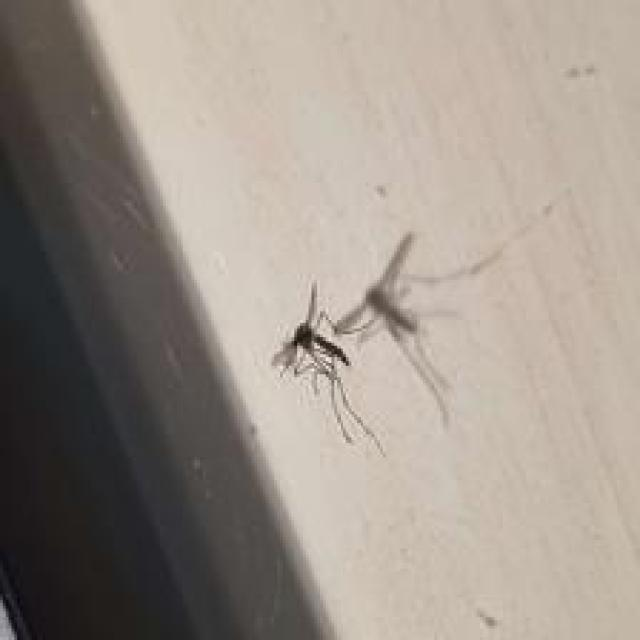Aedes albopictus: (270, 227, 504, 456)
